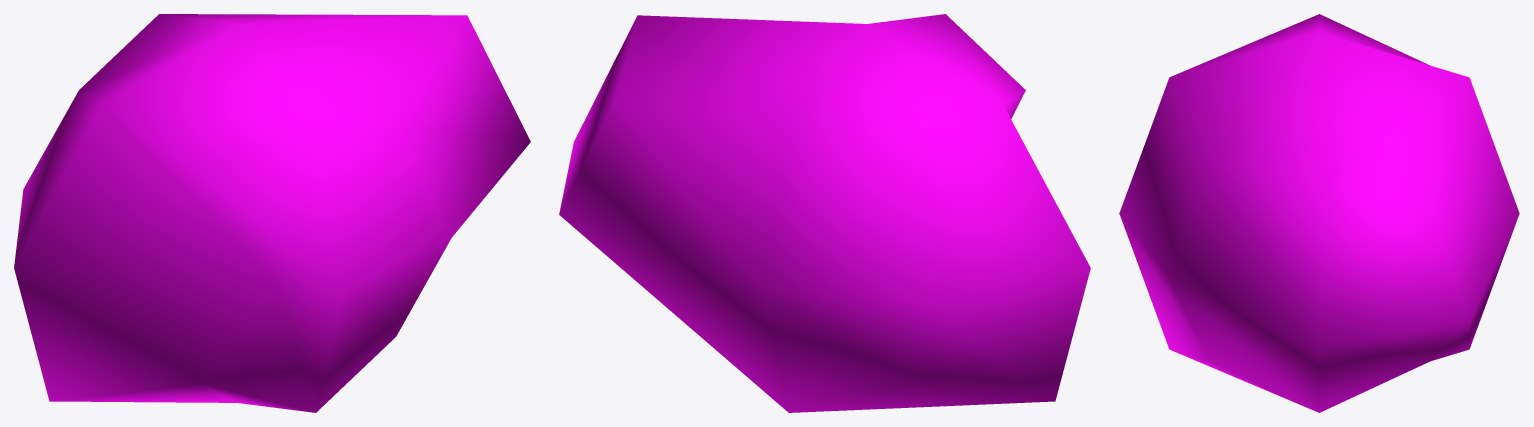
The model's file is rock_1.obj.
The picture shows the model from 3 angles, left to right: view 1: azimuth 30°, elevation 25°; view 2: azimuth 150°, elevation 25°; view 3: azimuth 270°, elevation 25°; orthographic projection. The views are drawn at different scales.
Visible parts, largest first — view 1: pCube1; view 2: pCube1; view 3: pCube1.
Boxes of the visible parts, x1,y1,x2,y2 form: pCube1: (14, 14, 530, 412); pCube1: (559, 14, 1090, 412); pCube1: (1119, 14, 1519, 412).
Size of the model in its own units: 9.23 by 6.46 by 6.46.
